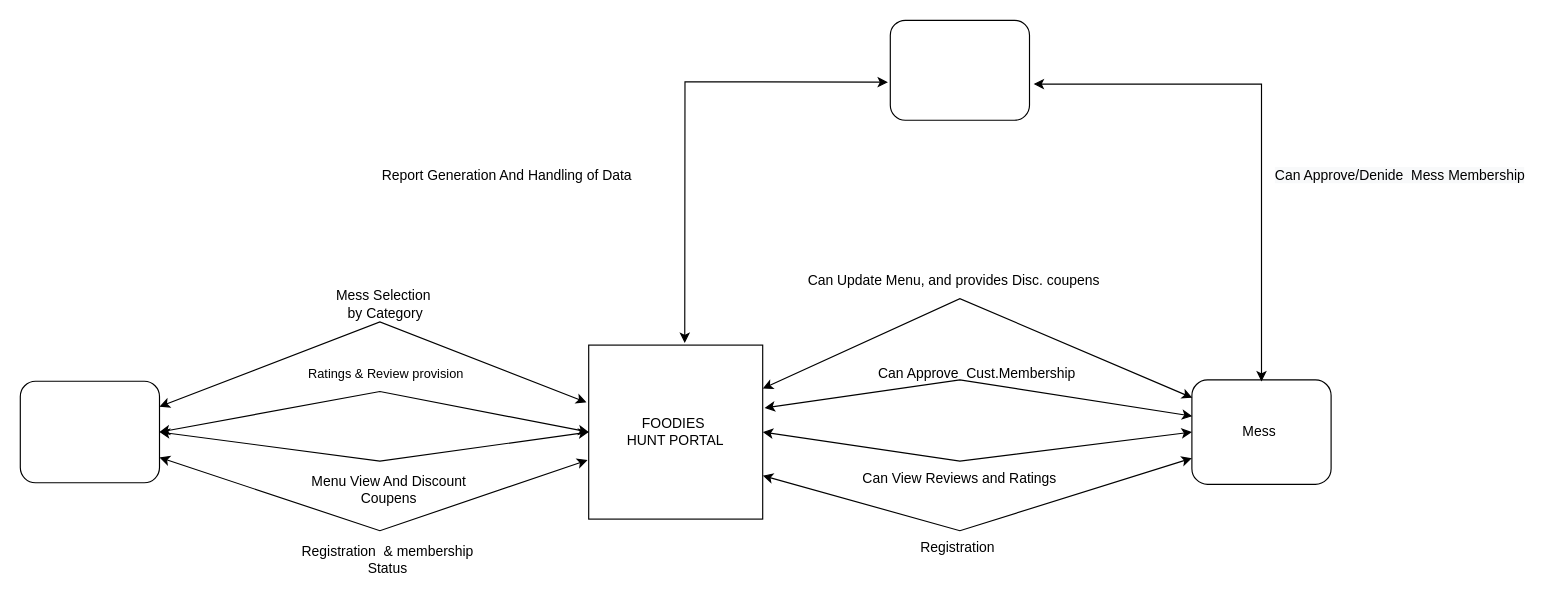
This 1549x597 diagram has some shape labels left out. The centre of each missing label's shape, as x and y in pixels:
"Admin" belongs at pixel 959 69.
"Consumers" belongs at pixel 89 431.
